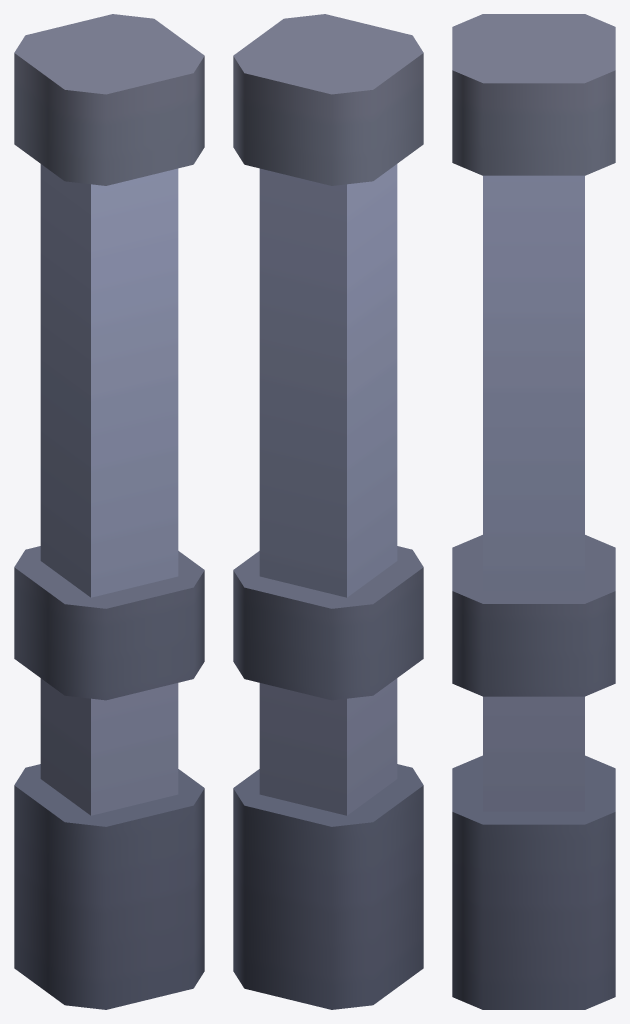
Rendered from pillar-stone.glb.
3 renders of one model, left to right at view 1: azimuth 30°, elevation 25°; view 2: azimuth 150°, elevation 25°; view 3: azimuth 270°, elevation 25°, orthographic.
Parts seen in each view (by area): view 1: pillar-stone; view 2: pillar-stone; view 3: pillar-stone.
Part boxes in pixels (x1=…): pillar-stone: x1=14, y1=14, x2=204, y2=1009; pillar-stone: x1=233, y1=14, x2=423, y2=1009; pillar-stone: x1=452, y1=14, x2=615, y2=1009.
Bounding box in the file's own units: 0.16 × 1 × 0.16.
1 material, 1 textured.
